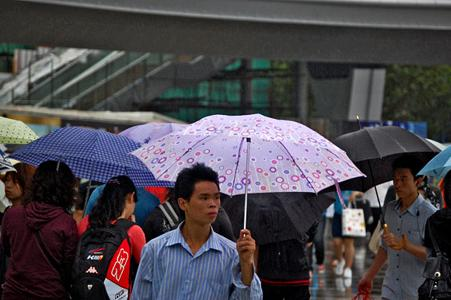person: (131, 162, 263, 300)
